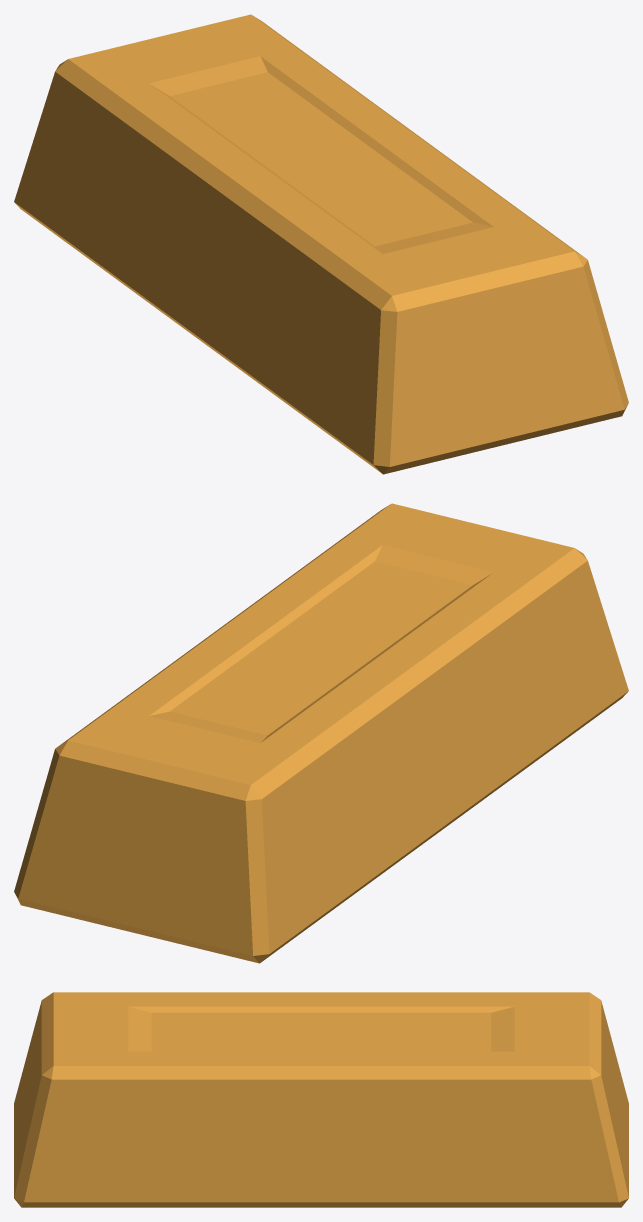
The model's file is gold-brick.fbx.
3 views of the same model, one above another, from view 1: azimuth 30°, elevation 25°; view 2: azimuth 150°, elevation 25°; view 3: azimuth 270°, elevation 25° (orthographic). The views are drawn at different scales.
Visible parts, largest first — view 1: gold-brick; view 2: gold-brick; view 3: gold-brick.
Part boxes in pixels (left/top/right/bottom): gold-brick: left=14, top=14, right=628, bottom=474; gold-brick: left=14, top=503, right=628, bottom=963; gold-brick: left=14, top=992, right=628, bottom=1207.
Size of the model in its own units: 0.0789 by 0.0465 by 0.1986.
